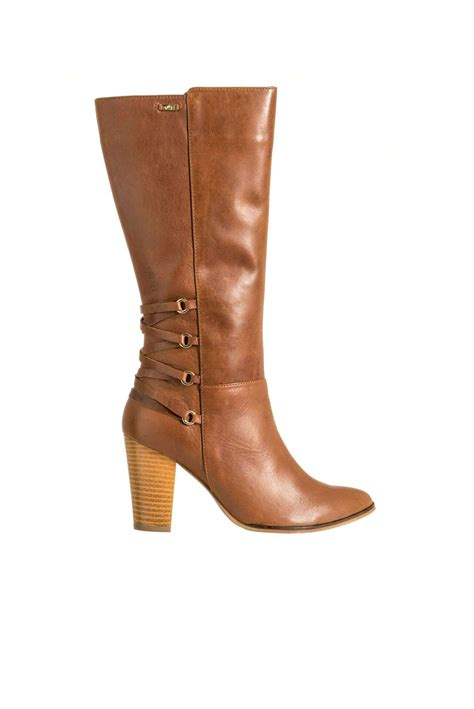cuero: (95, 85, 376, 530)
